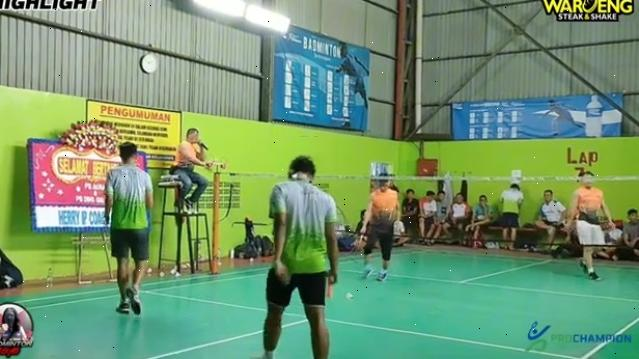Shuttlecock: (343, 292, 357, 302)
